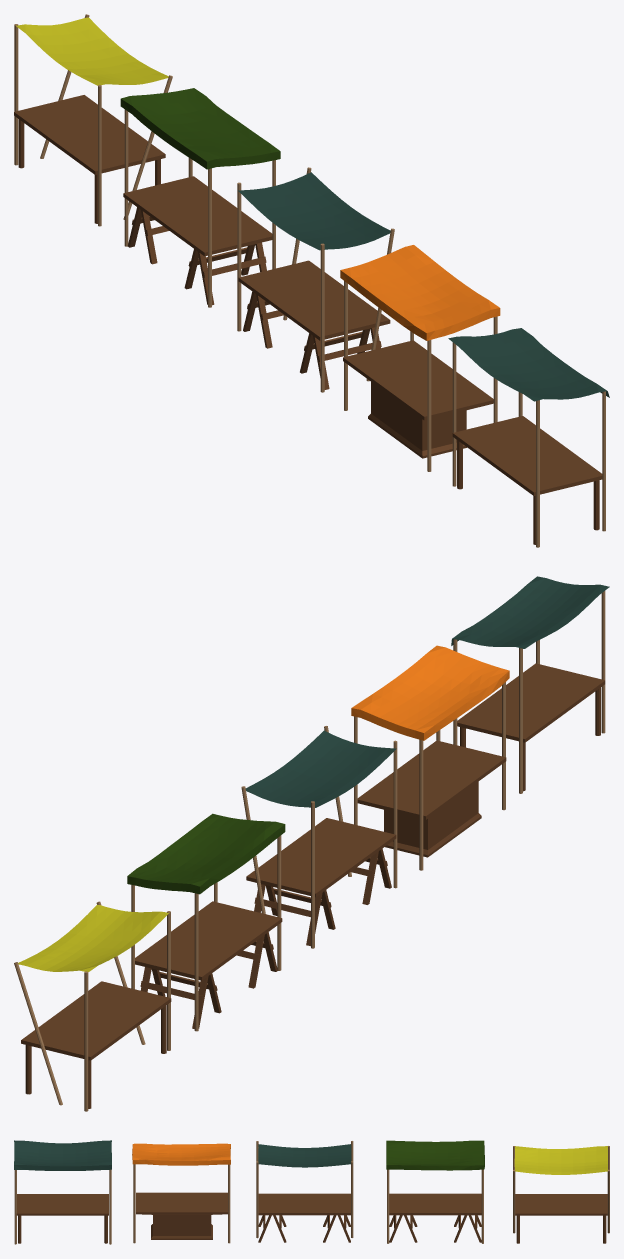
File: Marktstände 5x.fbx
The picture shows the model from 3 angles, top to bottom: view 1: azimuth 30°, elevation 25°; view 2: azimuth 150°, elevation 25°; view 3: azimuth 270°, elevation 25°; orthographic projection. The views are drawn at different scales.
Visible parts, largest first — view 1: Dach3, Tisch3, Dach2, Tisch1.001, Dach1, Tisch1, Dach4, Dach5, Tisch2.001, Tisch2; view 2: Dach3, Tisch3, Dach2, Tisch1.001, Tisch1, Dach1, Dach4, Dach5, Tisch2, Tisch2.001; view 3: Tisch3, Dach2, Dach4, Dach5, Tisch1.001, Tisch1, Dach3, Dach1, Tisch2, Tisch2.001.
Part boxes in pixels (left/top/right/bottom): Dach3: left=340, top=245, right=500, bottom=471; Tisch3: left=343, top=340, right=493, bottom=458; Dach2: left=120, top=88, right=280, bottom=307; Tisch1.001: left=123, top=176, right=272, bottom=305; Dach1: left=237, top=167, right=394, bottom=392; Tisch1: left=238, top=260, right=390, bottom=389; Dach4: left=448, top=328, right=609, bottom=547; Dach5: left=14, top=14, right=172, bottom=226; Tisch2.001: left=452, top=416, right=602, bottom=544; Tisch2: left=14, top=95, right=165, bottom=223; Dach3: left=351, top=645, right=509, bottom=870; Tisch3: left=357, top=740, right=506, bottom=857; Dach2: left=127, top=813, right=285, bottom=1031; Tisch1.001: left=135, top=901, right=282, bottom=1028; Tisch1: left=246, top=818, right=396, bottom=946; Dach1: left=241, top=726, right=397, bottom=948; Dach4: left=451, top=576, right=609, bottom=793; Dach5: left=14, top=901, right=170, bottom=1111; Tisch2: left=21, top=981, right=171, bottom=1108; Tisch2.001: left=457, top=663, right=605, bottom=791; Tisch3: left=136, top=1192, right=228, bottom=1239; Dach2: left=386, top=1140, right=484, bottom=1243; Dach4: left=14, top=1140, right=111, bottom=1244; Dach5: left=513, top=1146, right=609, bottom=1233; Tisch1.001: left=389, top=1193, right=481, bottom=1242; Tisch1: left=258, top=1193, right=350, bottom=1242; Dach3: left=132, top=1143, right=230, bottom=1243; Dach1: left=256, top=1141, right=353, bottom=1238; Tisch2: left=515, top=1194, right=607, bottom=1243; Tisch2.001: left=16, top=1194, right=108, bottom=1243.
Bounding box in the file's own units: 473 × 803 × 5163.
